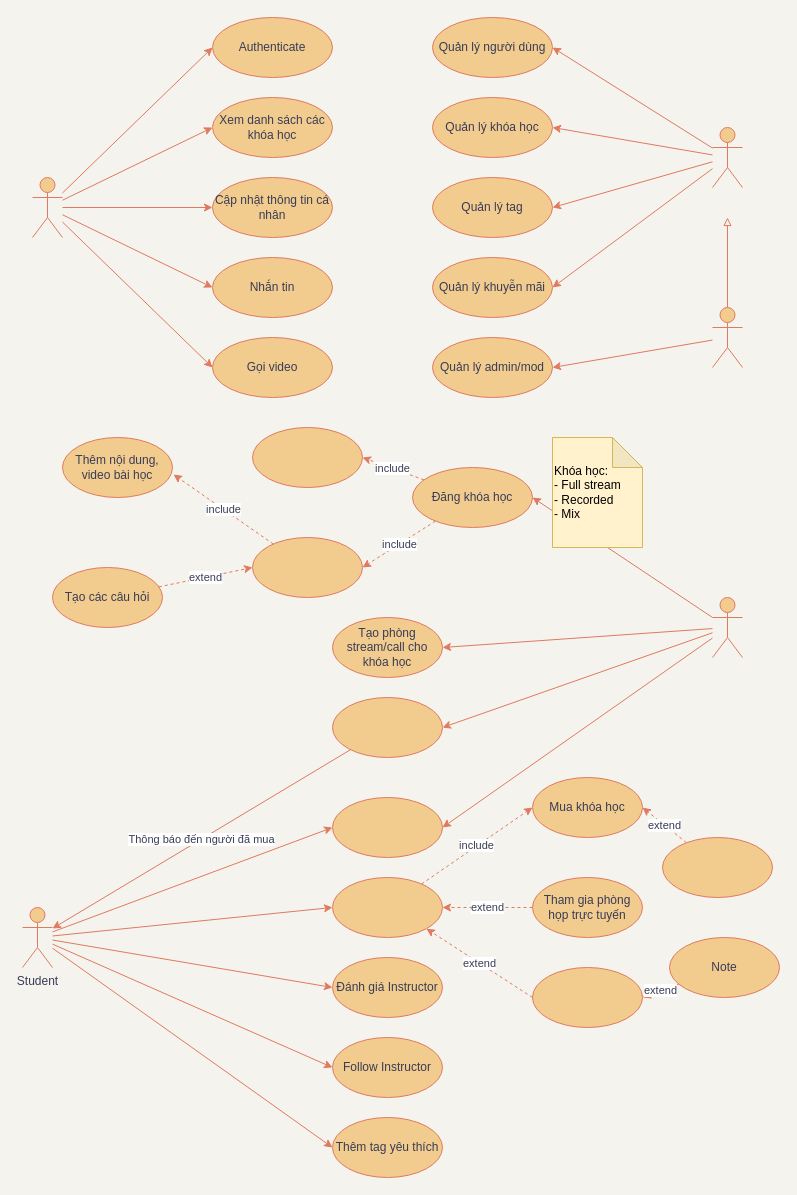
Some shapes in this 797 by 1195 pixel diagram are drawn without their labels. The shapes that lost their labels are listed below. From the top down, each one's centre as x and y in pixels, then its label:
point 727,157: Moderator
point 47,207: User
point 727,337: Administrator
point 307,457: Thêm tag
point 307,567: Tạo các bài học
point 727,627: Instructor
point 387,727: Đặt lịch stream/call
point 387,827: Gửi tài nguyên vào khóa học
point 717,867: Đánh giá khóa học
point 387,907: Học khóa học
point 587,997: Xem nội dung khóa học có sẵn
